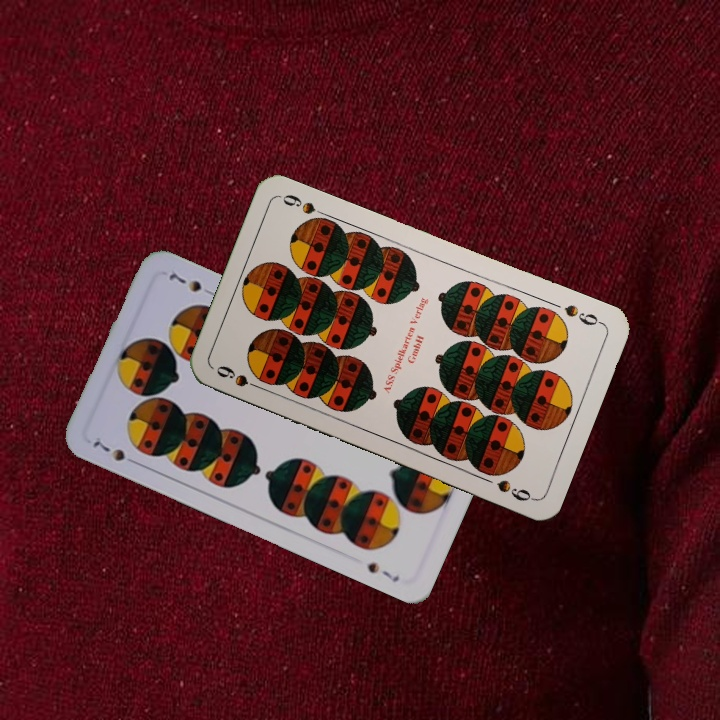S7: (88, 436, 142, 468)
S9: (212, 361, 268, 394), (560, 300, 606, 328)
